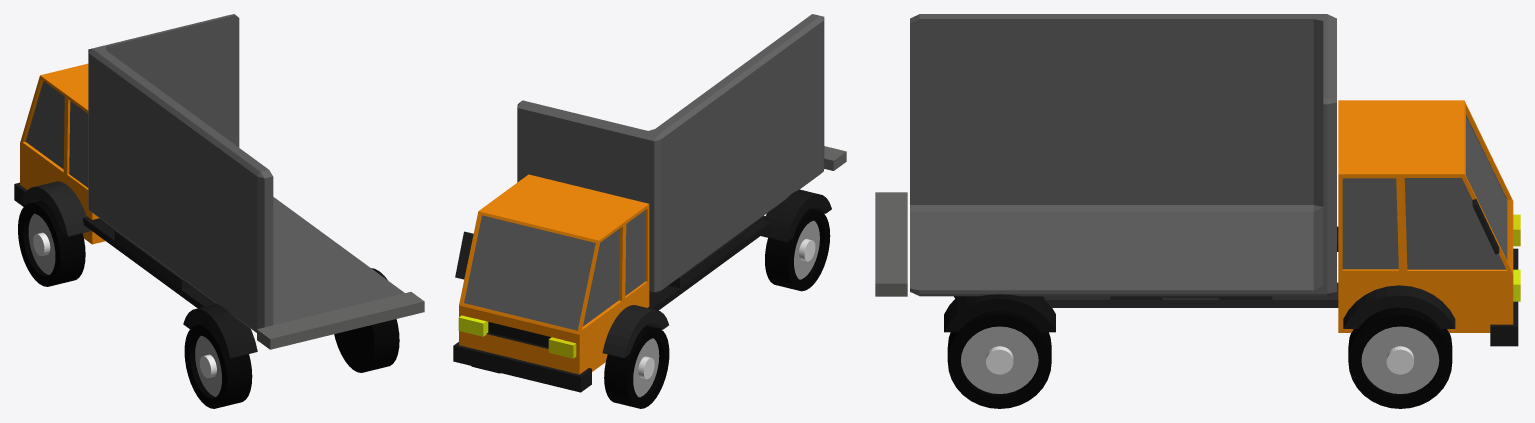
File: truckpackingView1.glb
The picture shows the model from 3 angles, left to right: view 1: azimuth 30°, elevation 25°; view 2: azimuth 150°, elevation 25°; view 3: azimuth 270°, elevation 25°; orthographic projection. The views are drawn at different scales.
Visible parts, largest first — view 1: Cube; view 2: Cube; view 3: Cube.
Part boxes in pixels (bbox=[...]): Cube: bbox=[14, 14, 424, 408]; Cube: bbox=[453, 14, 846, 408]; Cube: bbox=[875, 14, 1520, 408].
Size of the model in its own units: 8.36 by 11.58 by 22.12.
